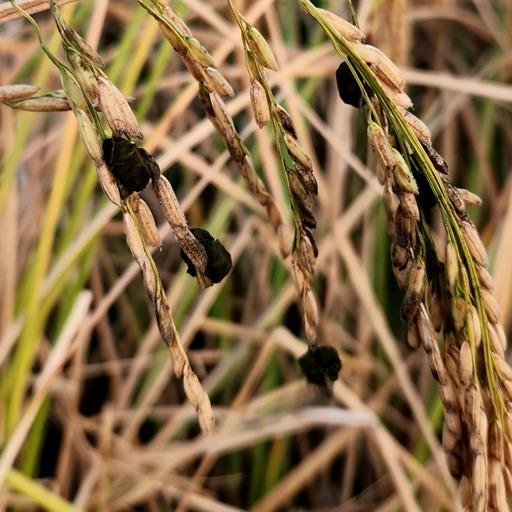Leaf_Scald: (94, 129, 162, 196), (184, 207, 238, 288), (329, 59, 388, 112), (295, 338, 346, 390)
